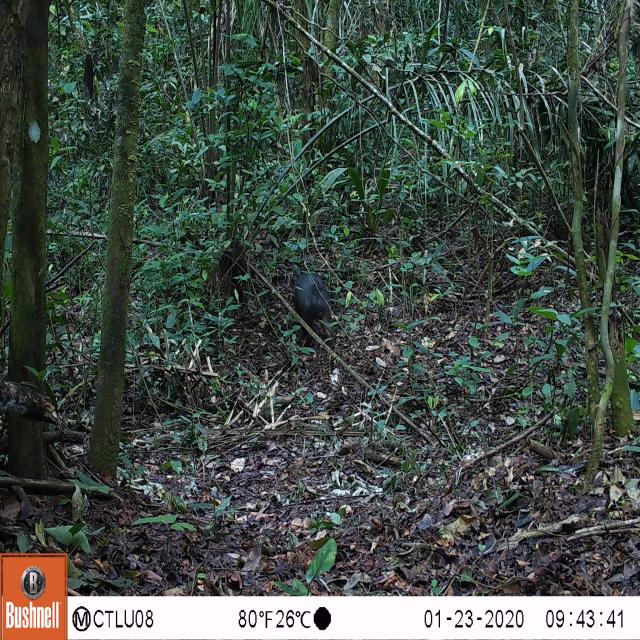Collared Peccary: (288, 264, 341, 350)
